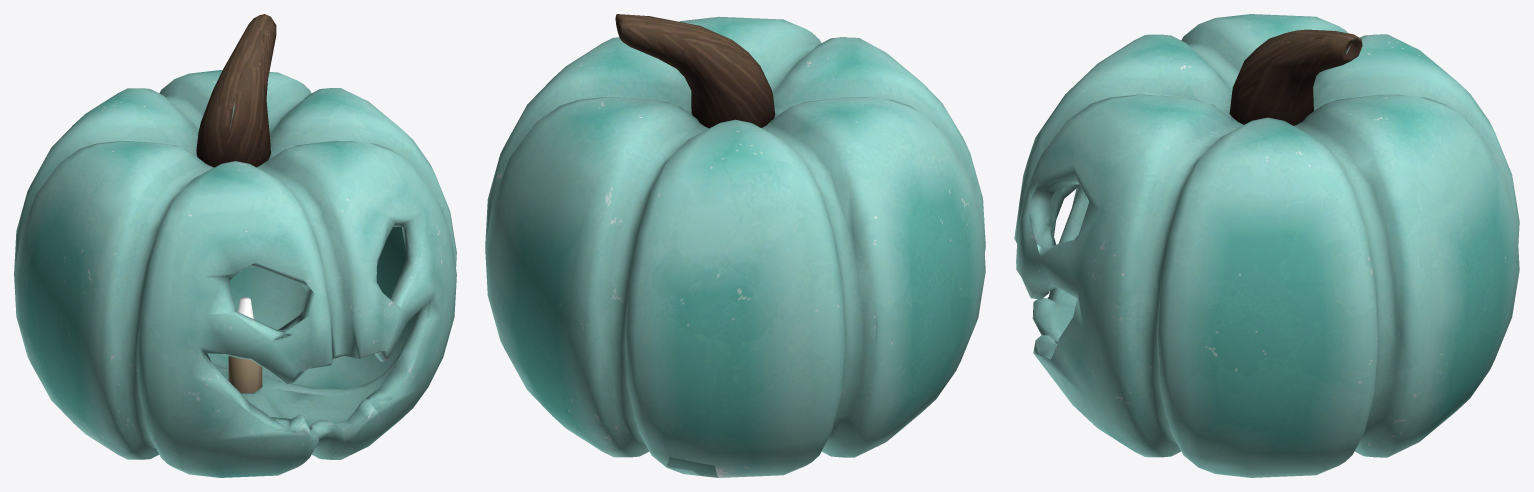
The model's file is DiamondOLantern.glb.
3 renders of one model, left to right at view 1: azimuth 30°, elevation 25°; view 2: azimuth 150°, elevation 25°; view 3: azimuth 270°, elevation 25°, orthographic. The views are drawn at different scales.
Parts seen in each view (by area): view 1: renderer; view 2: renderer; view 3: renderer.
Boxes of the visible parts, x1,y1,x2,y2 form: renderer: (14, 14, 456, 477); renderer: (485, 14, 985, 477); renderer: (1014, 14, 1519, 477).
Size of the model in its own units: 0.6128 by 0.5772 by 0.6391.
Materials: 2 (1 with a texture image).
